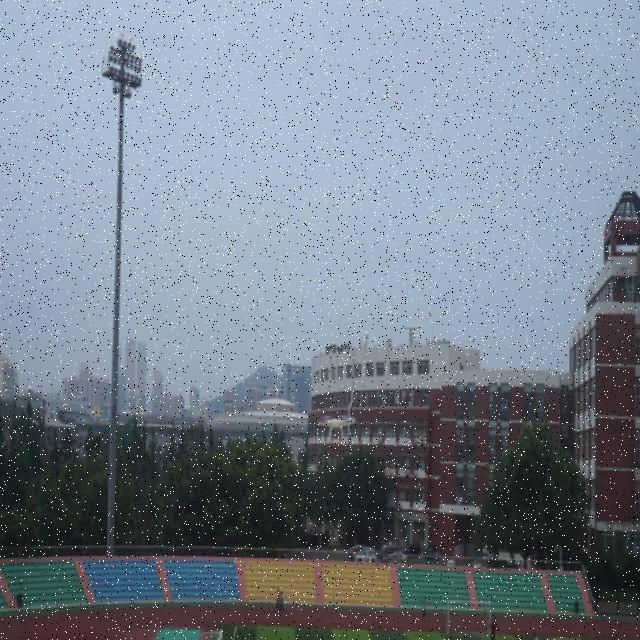UAV: (318, 414, 356, 443)
